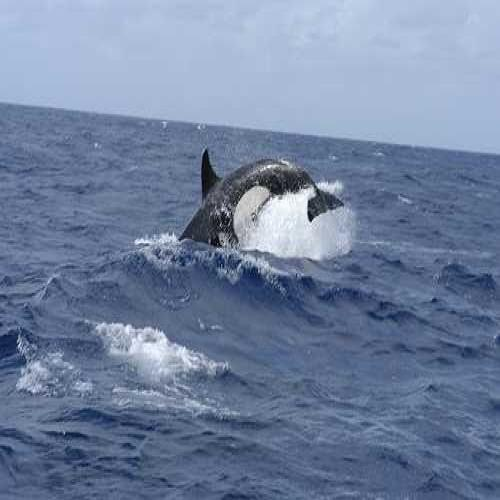killer_whale-endangered: (174, 126, 335, 280)
